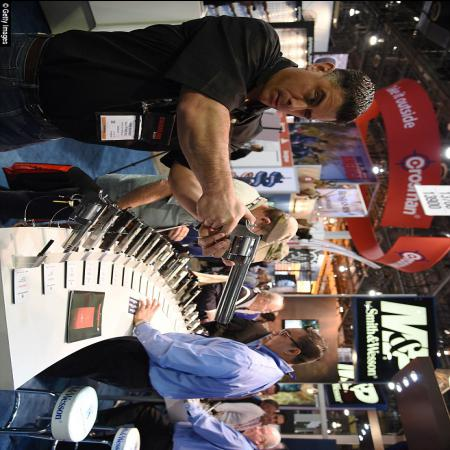Pistol: (208, 206, 265, 322)
